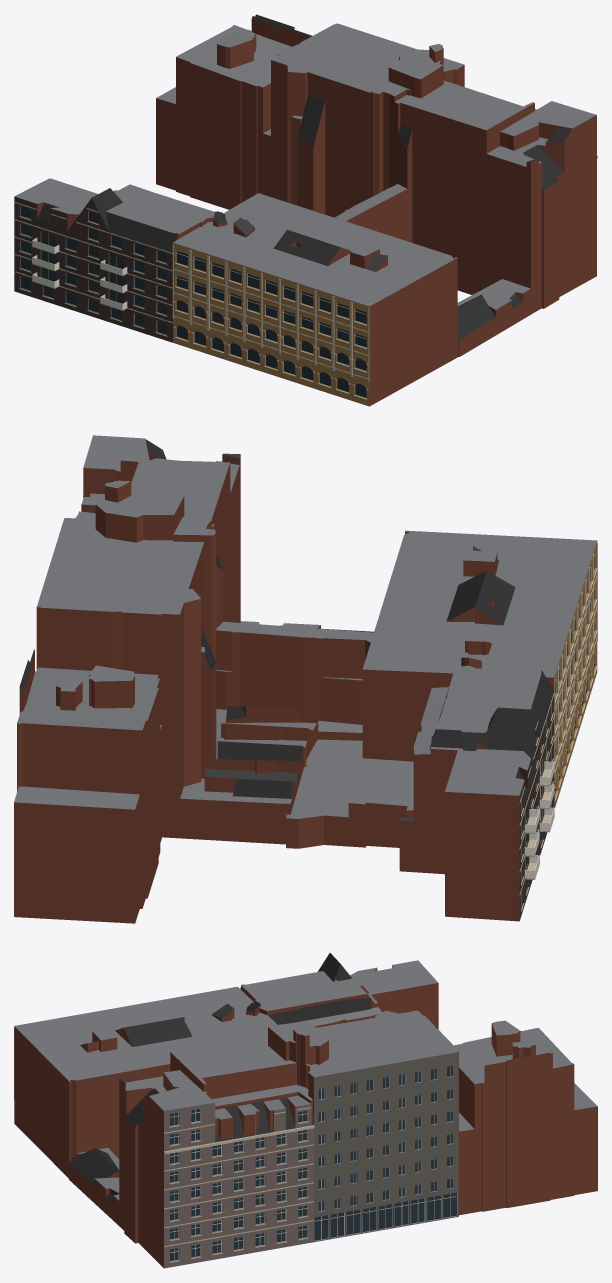
File: recipe-large-da-costakade-146-236799.glb
3 renders of one model, top to bottom at view 1: azimuth 30°, elevation 25°; view 2: azimuth 150°, elevation 25°; view 3: azimuth 270°, elevation 25°, orthographic. The views are drawn at different scales.
Parts seen in each view (by area): view 1: da-costakade-146-236799; view 2: da-costakade-146-236799; view 3: da-costakade-146-236799.
Boxes of the visible parts, x1,y1,x2,y2 form: da-costakade-146-236799: (14,14,597,406); da-costakade-146-236799: (14,435,597,923); da-costakade-146-236799: (14,953,597,1268).
Bounding box in the file's own units: 82.63 × 34.52 × 94.26.
